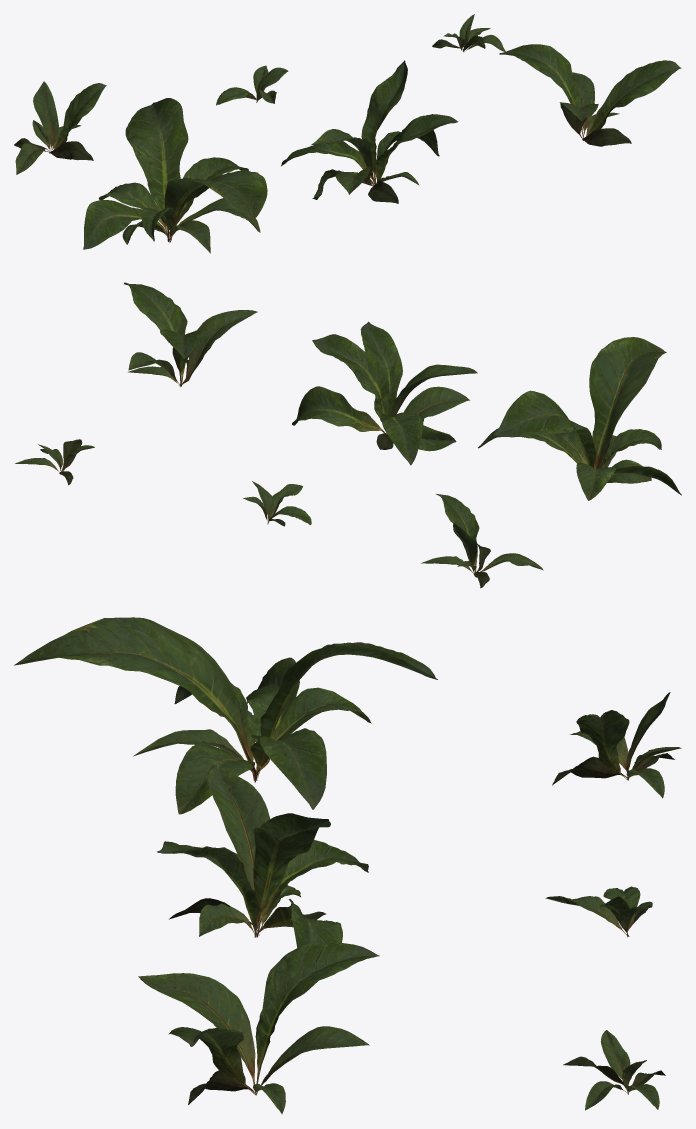
The model's file is anthurium_botany_01.glb.
3 renders of one model, top to bottom at view 1: azimuth 30°, elevation 25°; view 2: azimuth 150°, elevation 25°; view 3: azimuth 270°, elevation 25°, orthographic. The views are drawn at different scales.
Parts seen in each view (by area): view 1: anthurium_botany_01_a, anthurium_botany_01_b, anthurium_botany_01_c, anthurium_botany_04_d, anthurium_botany_05_e, anthurium_botany_06_f; view 2: anthurium_botany_01_a, anthurium_botany_01_b, anthurium_botany_01_c, anthurium_botany_04_d, anthurium_botany_05_e, anthurium_botany_06_f; view 3: anthurium_botany_01_a, anthurium_botany_01_b, anthurium_botany_01_c, anthurium_botany_04_d, anthurium_botany_06_f, anthurium_botany_05_e.
Part boxes in pixels (x1,y1,x2,y2): anthurium_botany_01_a: (83,98,267,253); anthurium_botany_01_b: (281,60,458,203); anthurium_botany_01_c: (499,44,681,146); anthurium_botany_04_d: (14,81,106,174); anthurium_botany_05_e: (216,65,288,105); anthurium_botany_06_f: (432,14,505,52); anthurium_botany_01_a: (478,337,681,500); anthurium_botany_01_b: (292,321,477,465); anthurium_botany_01_c: (124,282,257,386); anthurium_botany_04_d: (421,494,543,588); anthurium_botany_05_e: (243,481,311,526); anthurium_botany_06_f: (15,439,94,485); anthurium_botany_01_a: (14,617,437,814); anthurium_botany_01_b: (157,763,368,947); anthurium_botany_01_c: (138,942,379,1113); anthurium_botany_04_d: (552,692,681,798); anthurium_botany_06_f: (563,1030,665,1110); anthurium_botany_05_e: (545,886,652,937).
Size of the model in its own units: 2.8 by 0.4996 by 1.8.
1 material, 1 textured.
